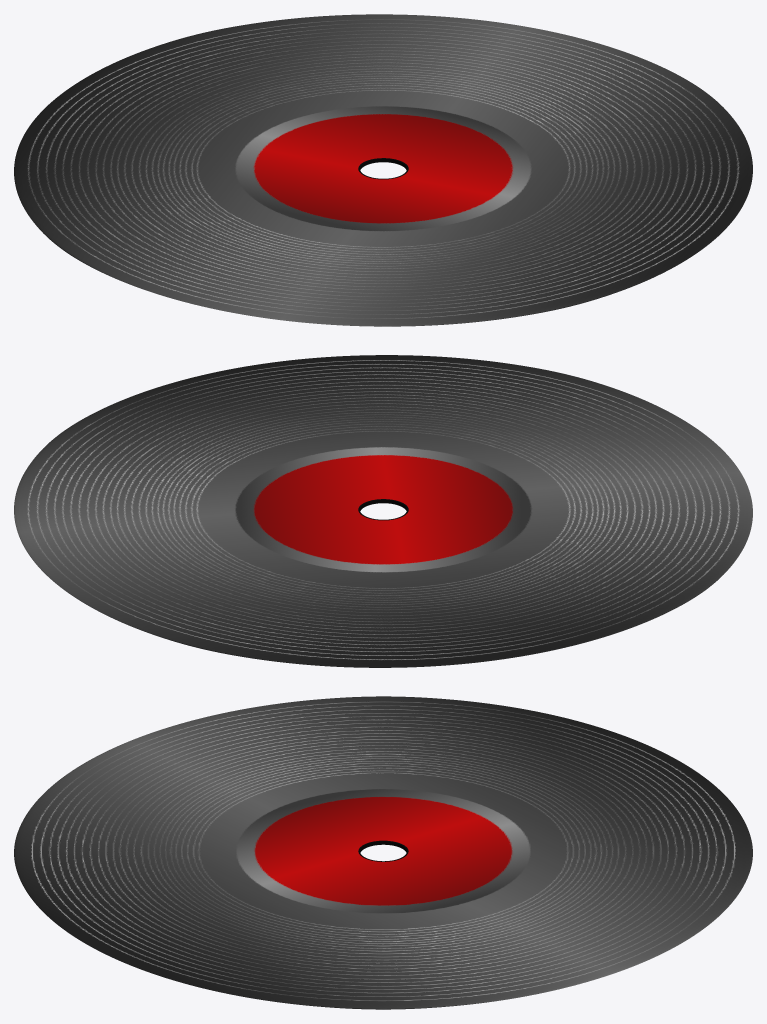
The model's file is vinyl.glb.
3 views of the same model, one above another, from view 1: azimuth 30°, elevation 25°; view 2: azimuth 150°, elevation 25°; view 3: azimuth 270°, elevation 25° (orthographic).
Visible parts, largest first — view 1: Circle; view 2: Circle; view 3: Circle.
Boxes of the visible parts, x1,y1,x2,y2 form: Circle: (14, 14, 752, 326); Circle: (14, 355, 752, 667); Circle: (14, 696, 752, 1009).
Size of the model in its own units: 1.98 by 0.0101 by 1.98.
Materials: 3 (1 with a texture image).
